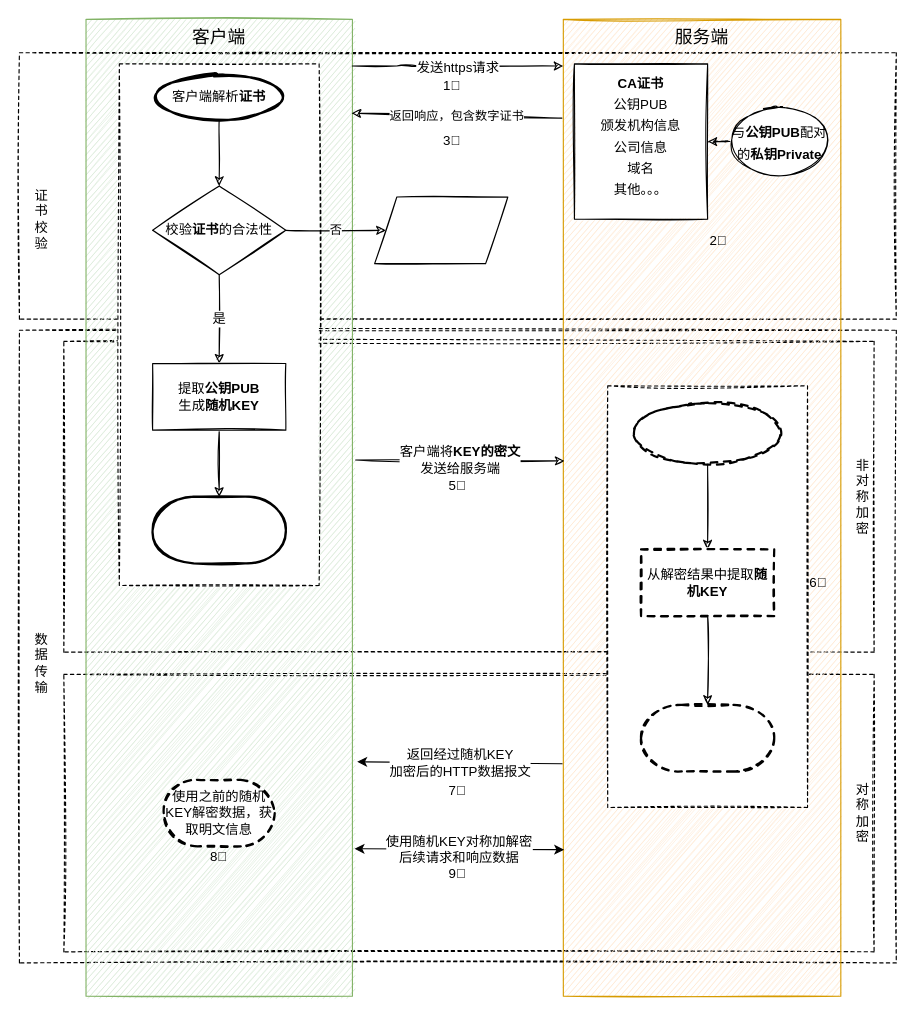
Image size: 916x1016. Some labels were removed from this diagram. Here are the shapes that lost their labels. From the top down, the centre of each, then its label:
point 441,230: 显示https警告
point 707,432: 使用 私钥Private 解密密文
point 218,529: 使用 公钥PUB 加密 KEY
point 707,737: 使用 随机KEY 对称加密HTTP数据
